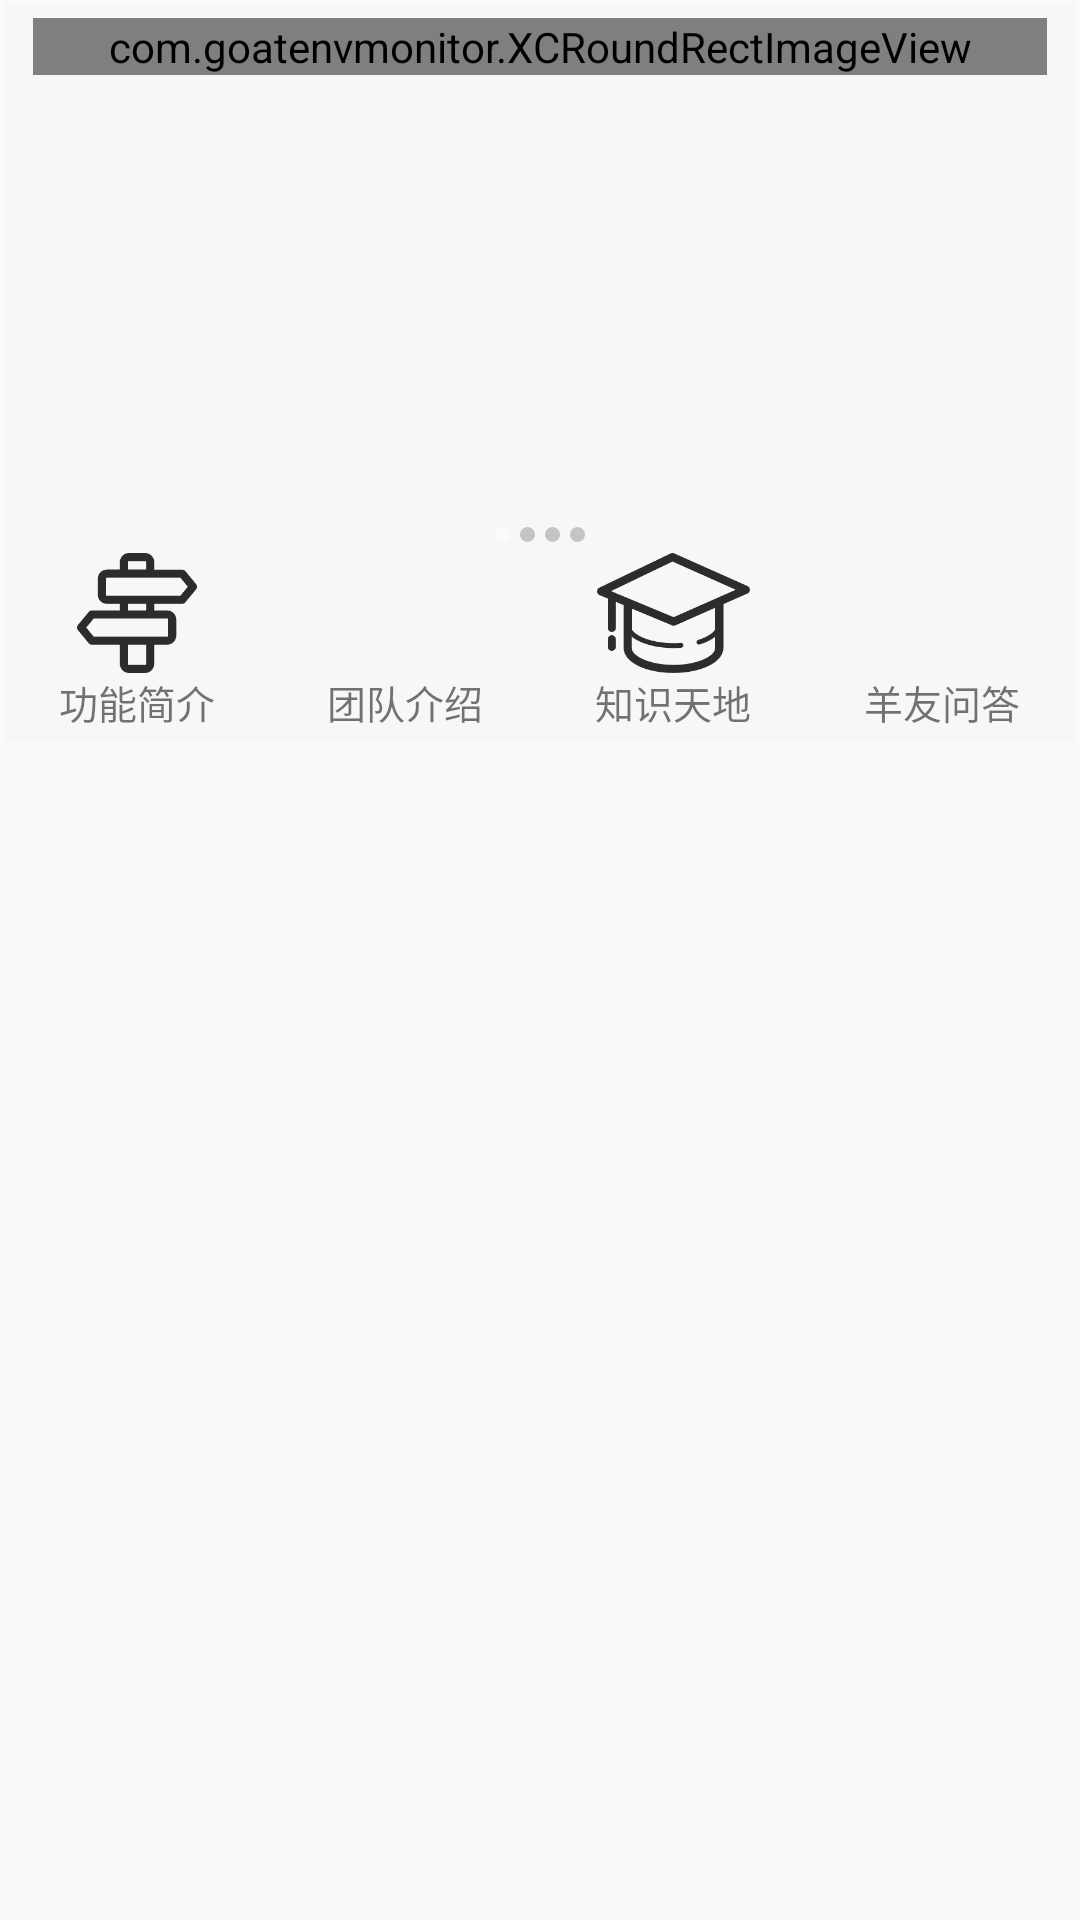

Screen size 1080w x 1920h. Icon name, then its center in pixels as [x,y]:
guideblack: [137,613]
